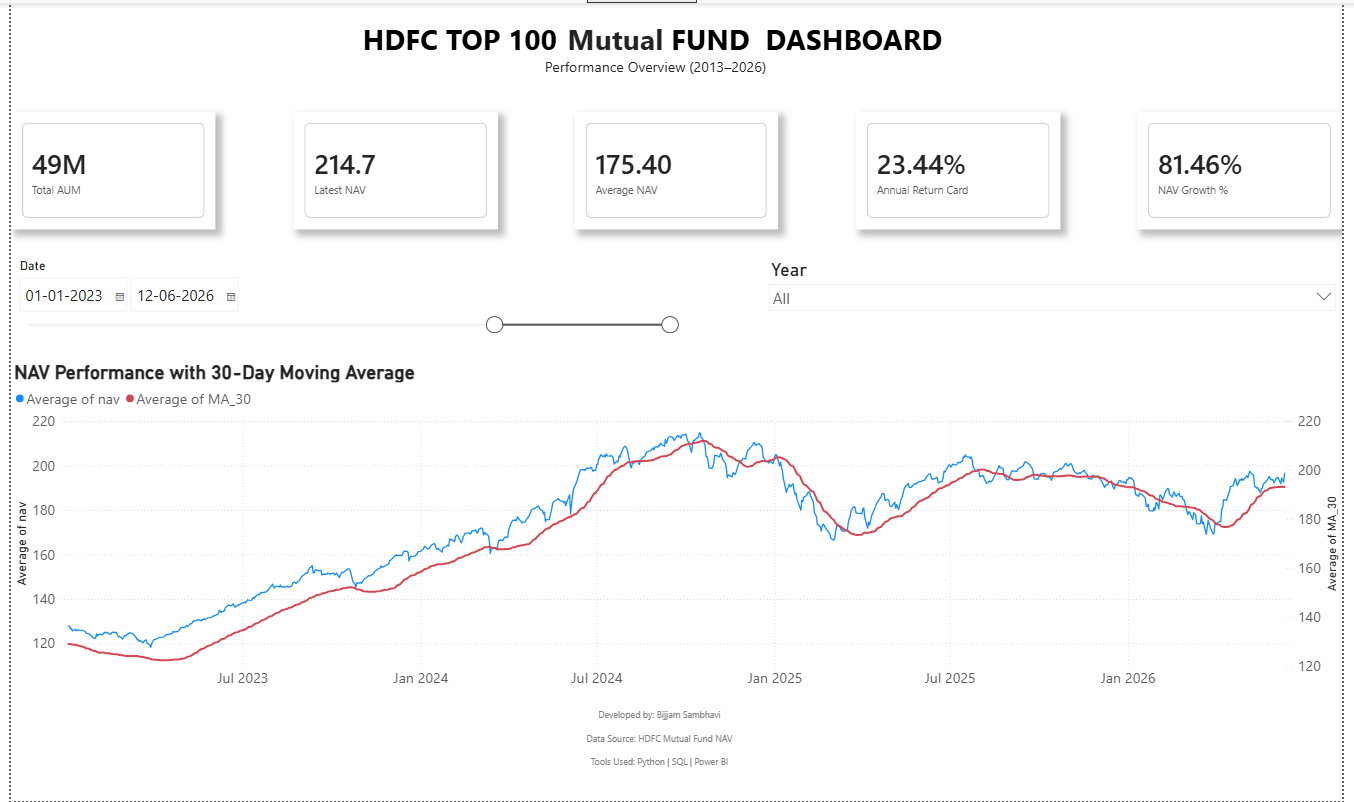

The dashboard page shown, as its layout file describes it:
{"tool":"powerbi","page":{"name":"Page 1","canvas":[1558,992],"ordinal":0},"visuals":[{"type":"cardVisual","fields":{"Data":["industry_overview.Total AUM"]},"box":[25.3,210,281.4,149.9],"z":0},{"type":"cardVisual","fields":{"Data":["Date_Table.NAV Growth %"]},"box":[1210.8,210,216.6,149.3],"z":1000},{"type":"lineChart","title":"NAV Performance with 30-Day Moving Average","fields":{"Category":["processed_nav_data.date"],"Y":["Avg(processed_nav_data.nav)"],"Y2":["Avg(processed_nav_data.MA_30)"]},"box":[0,570,1558,422],"z":2000},{"type":"slicer","fields":{"Values":["processed_nav_data.date"]},"box":[182,400,663,160],"z":3000},{"type":"textbox","box":[0,17.7,289.5,152.2],"z":4000},{"type":"textbox","box":[323.2,83.7,1015.6,126.3],"z":5000},{"type":"cardVisual","fields":{"Data":["Date_Table.Latest NAV"]},"box":[370.2,210,216.6,149.3],"z":6000},{"type":"cardVisual","fields":{"Data":["Date_Table.Average NAV"]},"box":[650.4,210,216.6,149.3],"z":7000},{"type":"cardVisual","fields":{"Data":["Date_Table.Annual Return Card"]},"box":[930.6,210,216.6,149.3],"z":8000}]}

Visuals, with their boxes on the page's 1558x992 design canvas (x1, y1, x2, y2). These are canvas units, not pixel positions in the 1354x802 screenshot, which may show the page scaled, cropped or inside an application window:
cardVisual - industry_overview.Total AUM: select_region(25, 210, 307, 360)
cardVisual - Date_Table.NAV Growth %: select_region(1211, 210, 1427, 359)
"NAV Performance with 30-Day Moving Average" lineChart: select_region(0, 570, 1558, 992)
slicer - processed_nav_data.date: select_region(182, 400, 845, 560)
textbox: select_region(0, 18, 290, 170)
textbox: select_region(323, 84, 1339, 210)
cardVisual - Date_Table.Latest NAV: select_region(370, 210, 587, 359)
cardVisual - Date_Table.Average NAV: select_region(650, 210, 867, 359)
cardVisual - Date_Table.Annual Return Card: select_region(931, 210, 1147, 359)
